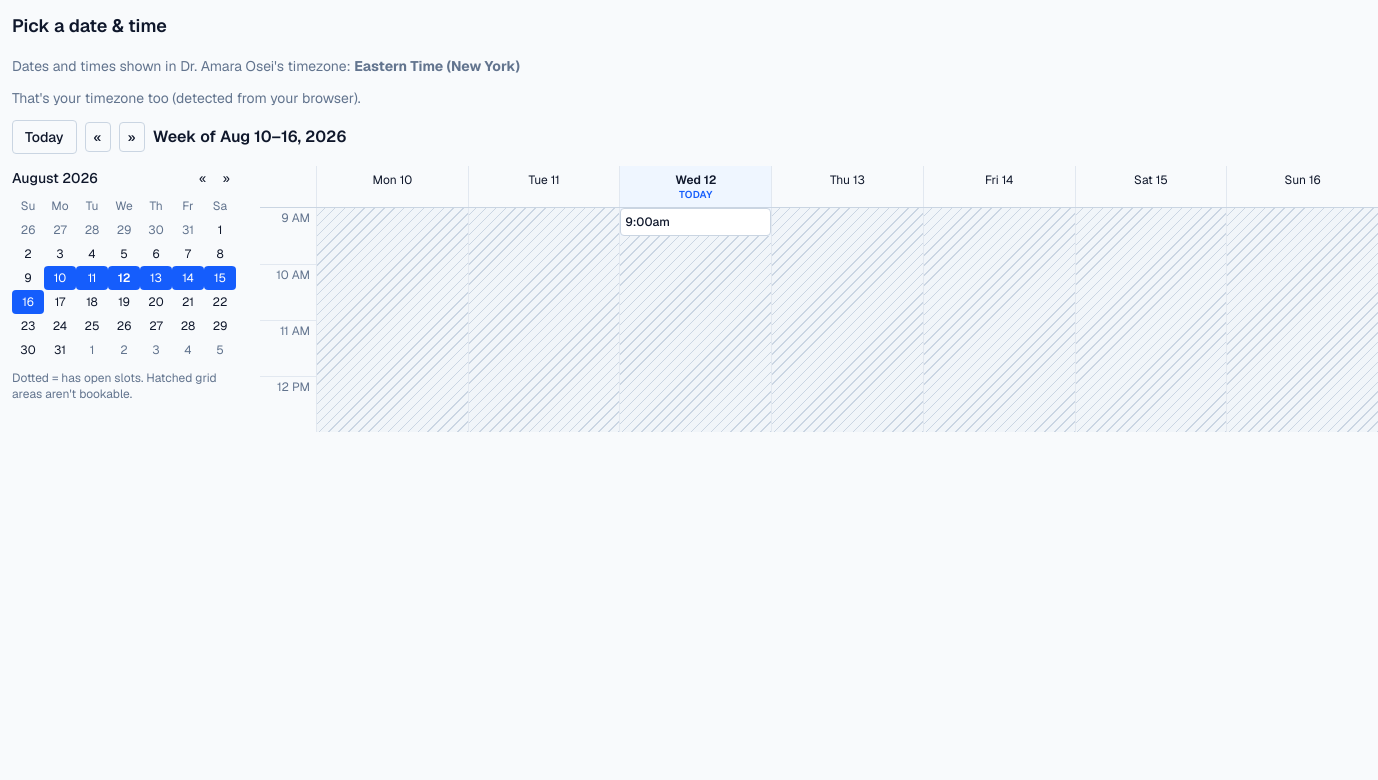
Test: DateTimeStep › navigating to another week in the same fetched month re-filters without a new request
Expected: the button "9:00am" is shown, 620,208 -> 771,236
Click the button named "Go to next week": click(132, 137) 119,122 -> 145,152
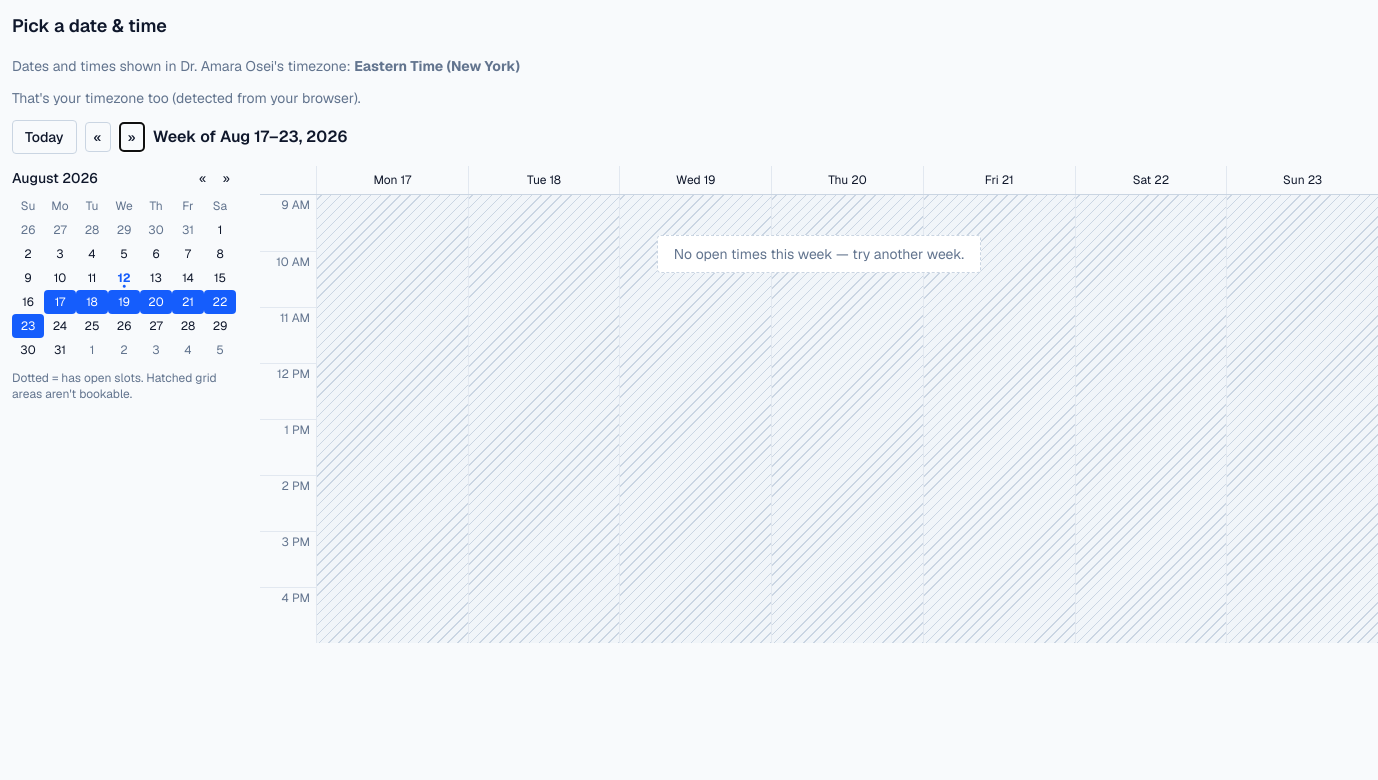
Expected: the text "Week of Aug 17–23, 2026" is shown, 153,125 -> 347,149
Expected: the text "No open times this week — try another week." is shown, 657,235 -> 981,273
Click the button "Today": click(44, 137) 12,120 -> 77,154
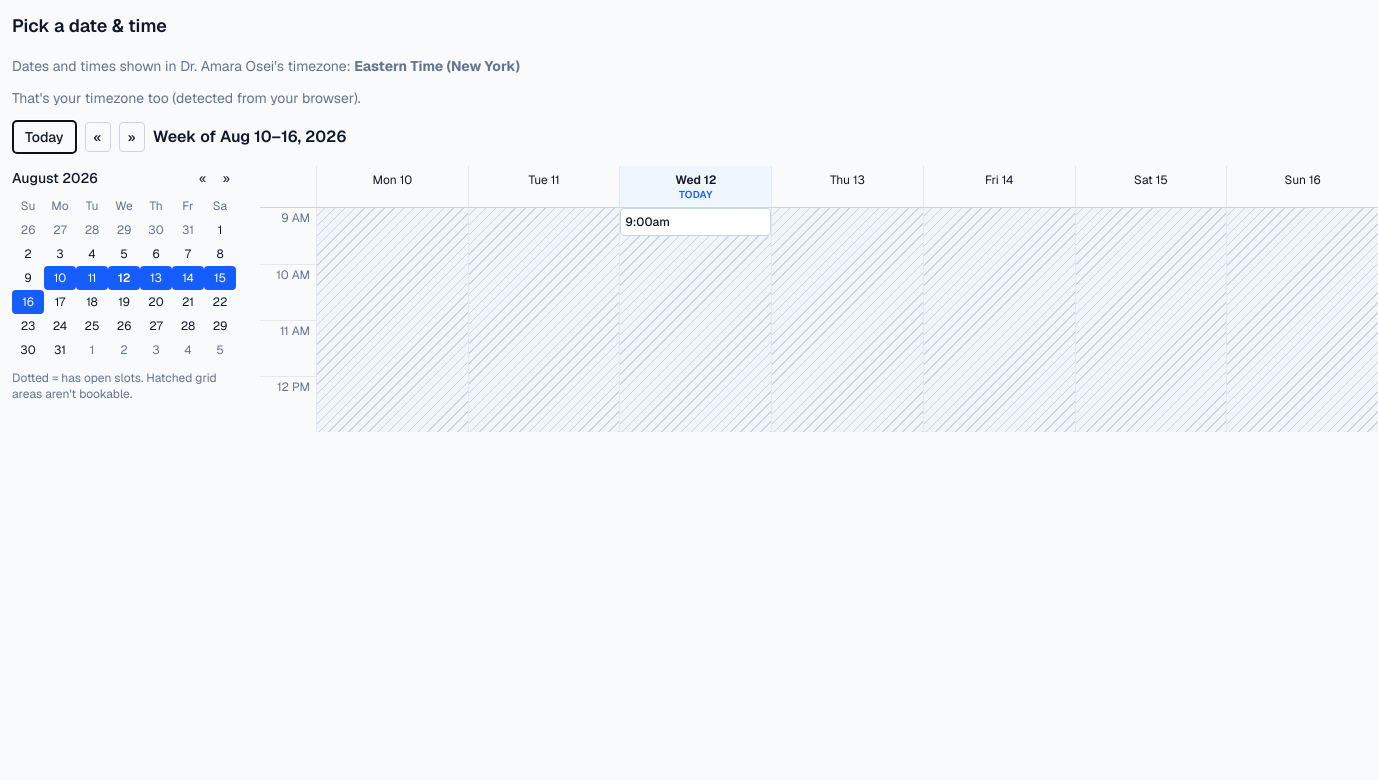
Expected: the button "9:00am" is shown, 620,208 -> 771,236
